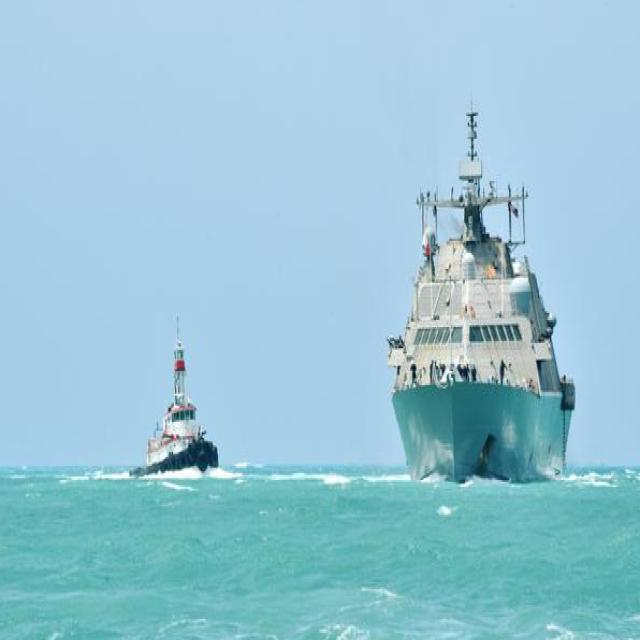navalvessels: (386, 95, 576, 472), (133, 324, 222, 479)
